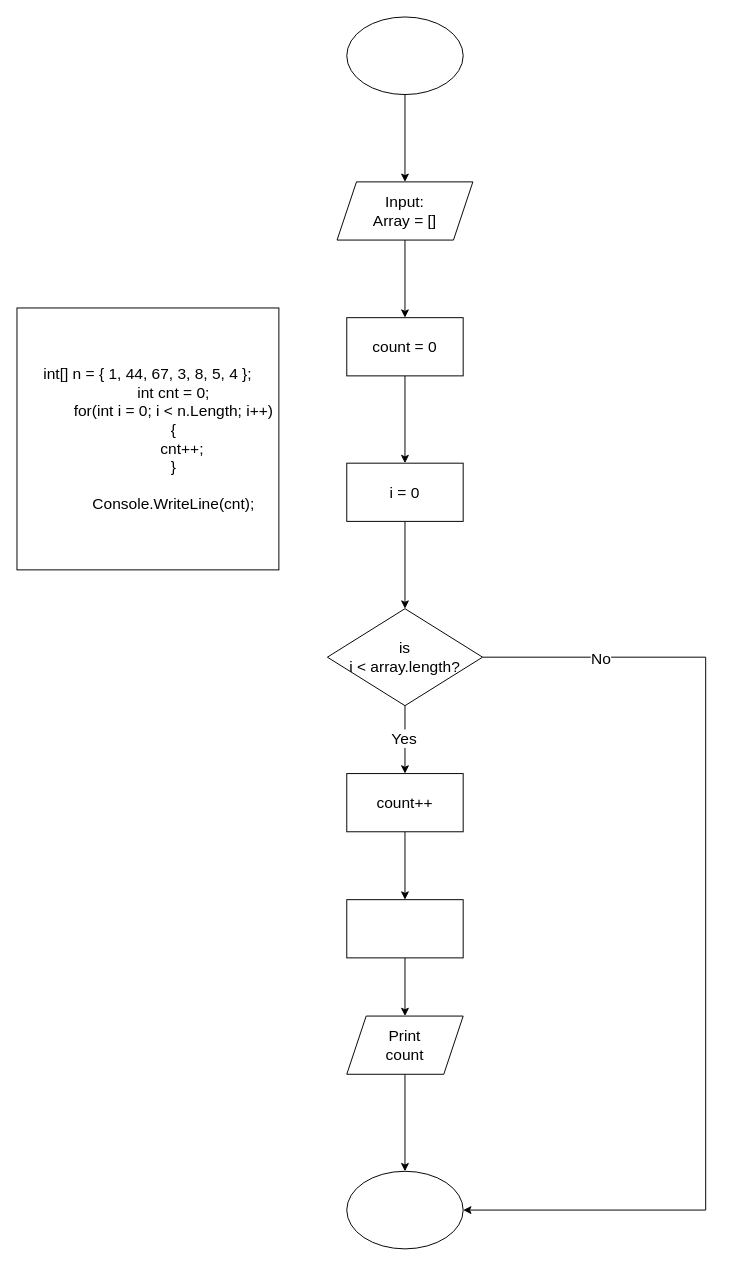
Some shapes in this 730 by 1266 pixel diagram are drawn without their labels. Here are the shapes that lost their labels. From the top down, the centre of each, then its label:
At pixel 404 55: "Start".
At pixel 404 928: "i++".
At pixel 404 1209: "End".
